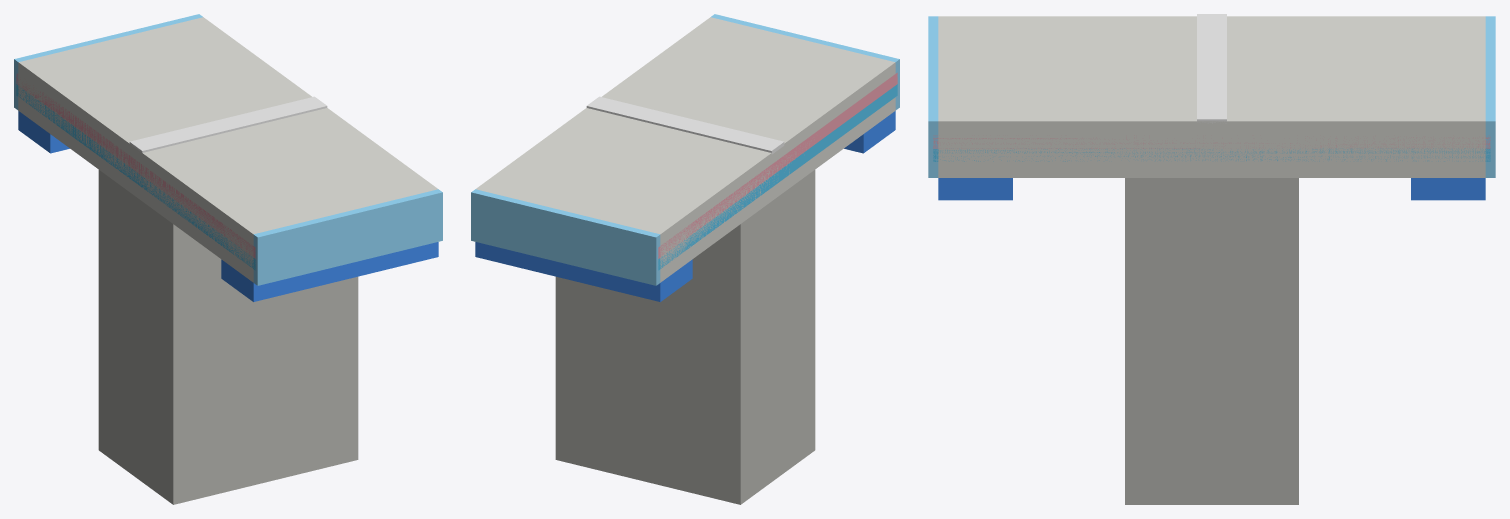
Rendered from pride_maglev_pride.obj.
3 renders of one model, left to right at view 1: azimuth 30°, elevation 25°; view 2: azimuth 150°, elevation 25°; view 3: azimuth 270°, elevation 25°, orthographic. The views are drawn at different scales.
Visible parts, largest first — view 1: RAIL_BASE, RAIL_RIGHT, RAIL_LEFT; view 2: RAIL_BASE, RAIL_LEFT, RAIL_RIGHT; view 3: RAIL_BASE, RAIL_LEFT, RAIL_RIGHT.
Boxes of the visible parts, box(x1,y1,x2,y2) form: RAIL_BASE: box(16, 17, 438, 504); RAIL_RIGHT: box(221, 189, 442, 301); RAIL_LEFT: box(14, 14, 202, 153); RAIL_BASE: box(475, 17, 897, 504); RAIL_LEFT: box(471, 189, 692, 301); RAIL_RIGHT: box(711, 14, 899, 153); RAIL_BASE: box(933, 14, 1490, 504); RAIL_LEFT: box(1411, 16, 1495, 200); RAIL_RIGHT: box(928, 16, 1012, 200).
Bounding box in the file's own units: 1 × 1.71 × 2.28.
Materials: 1 (1 with a texture image).
